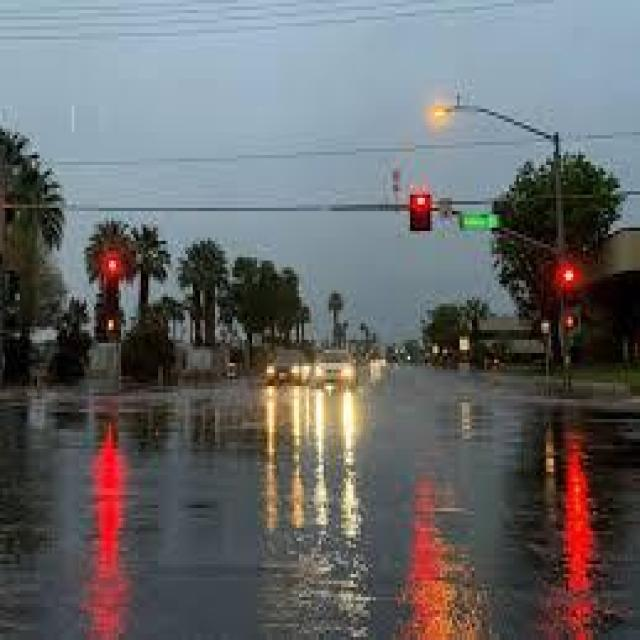other: (402, 475, 466, 620), (257, 349, 365, 429), (91, 414, 125, 622), (556, 435, 594, 584), (549, 246, 578, 344), (402, 178, 434, 240), (422, 90, 451, 132), (94, 245, 120, 288)
